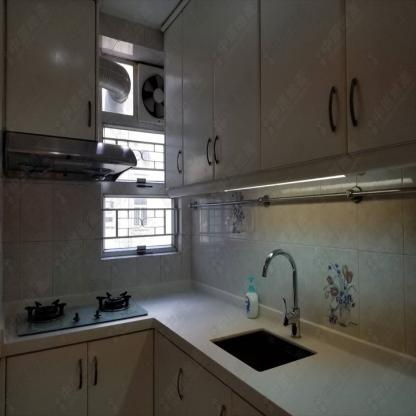Cupboard: (162, 1, 416, 198), (2, 328, 265, 415), (3, 33, 99, 142)
Exhaust Fan: (134, 65, 164, 125)
Exhaust Hood: (4, 133, 136, 184)
Faucet: (263, 246, 301, 337)
Sink: (209, 327, 319, 374)
Stove: (17, 288, 148, 337)
